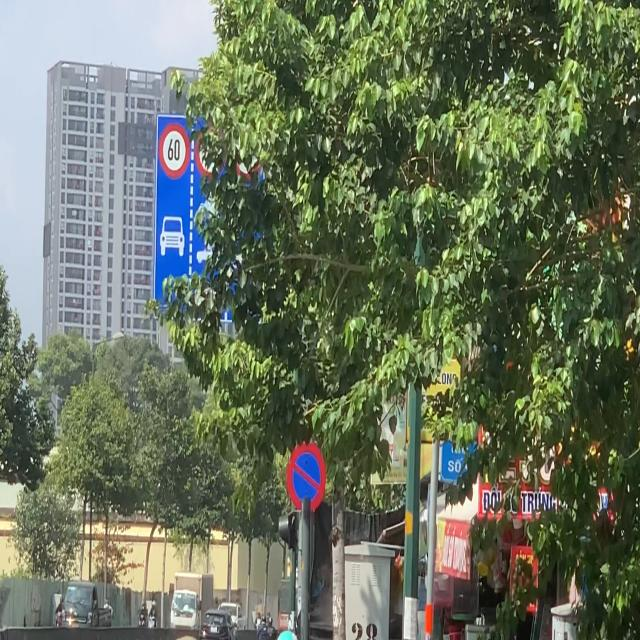Cam do: (286, 442, 326, 513)
Toc do toi da: (159, 122, 190, 180)
